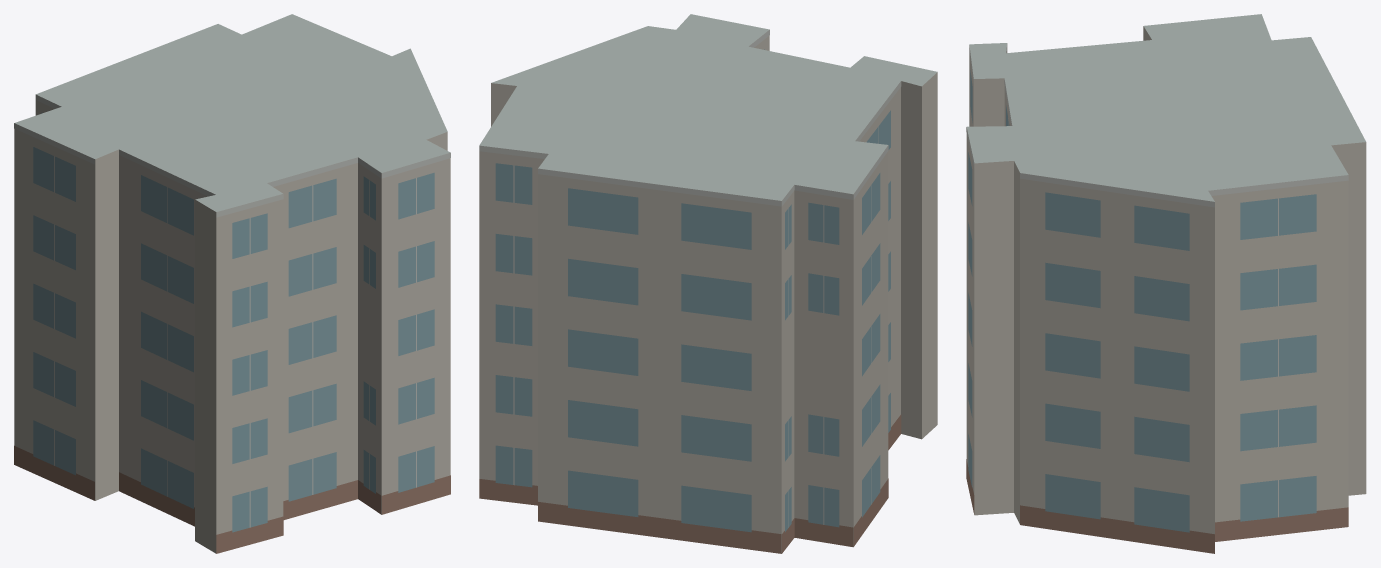
The model's file is survey-upis-32640669.glb.
The picture shows the model from 3 angles, left to right: view 1: azimuth 30°, elevation 25°; view 2: azimuth 150°, elevation 25°; view 3: azimuth 270°, elevation 25°; orthographic projection. The views are drawn at different scales.
Parts seen in each view (by area): view 1: survey-upis-32640669.tmp; view 2: survey-upis-32640669.tmp; view 3: survey-upis-32640669.tmp.
Boxes of the visible parts, <box> form: survey-upis-32640669.tmp: <box>14,14,450,553</box>; survey-upis-32640669.tmp: <box>479,14,937,553</box>; survey-upis-32640669.tmp: <box>966,14,1366,553</box>.
Bounding box in the file's own units: 17.47 × 15.25 × 15.71.
